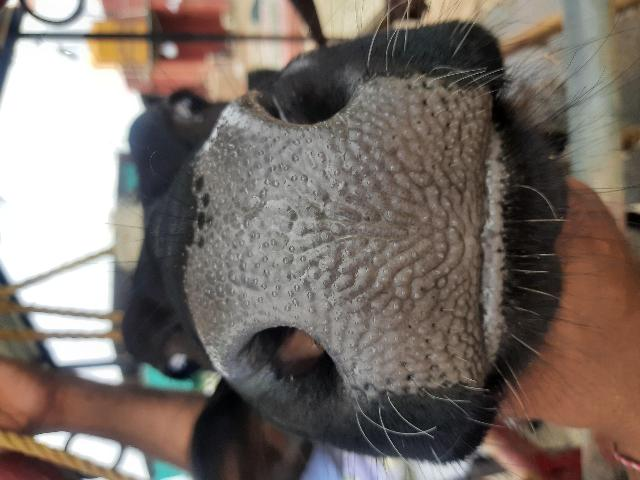Muzzle: (203, 104, 482, 390)
